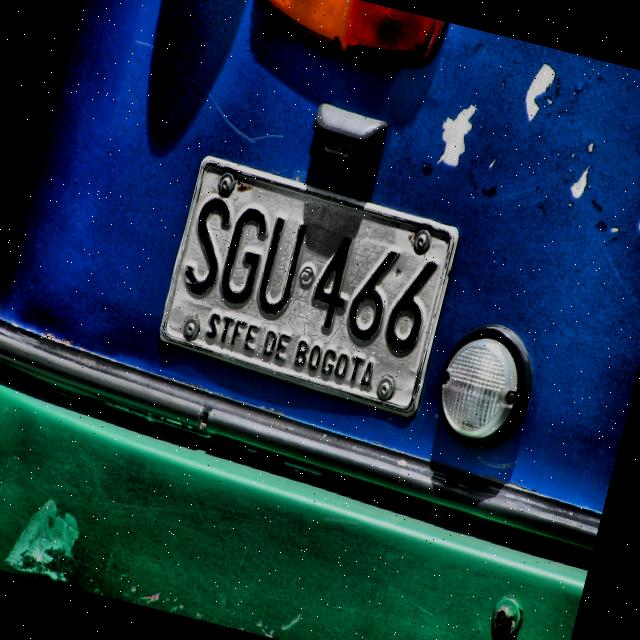4: (303, 225, 364, 337)
6: (340, 236, 404, 348), (380, 250, 442, 362)
G: (214, 199, 274, 310)
S: (179, 190, 238, 300)
U: (250, 210, 312, 320)
